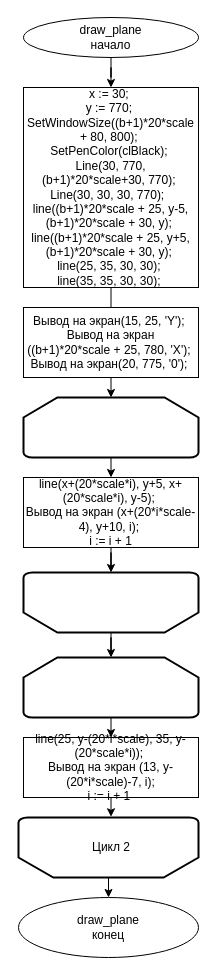
Some shapes in this 216 by 975 pixel diagram are drawn without their labels. The centre of each missing label's shape, as x and y in pixels:
"Цикл 1" belongs at [110,602].
"цикл 1 i > b" belongs at [110,427].
"Цикл 2 i > 36" belongs at [110,687].
